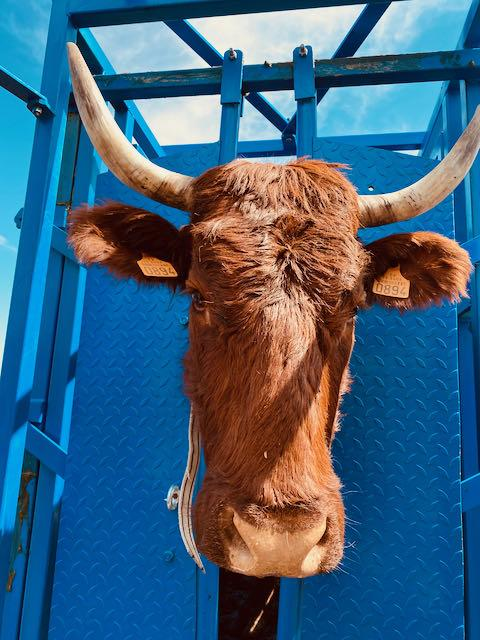muzzles: (186, 485, 352, 585)
